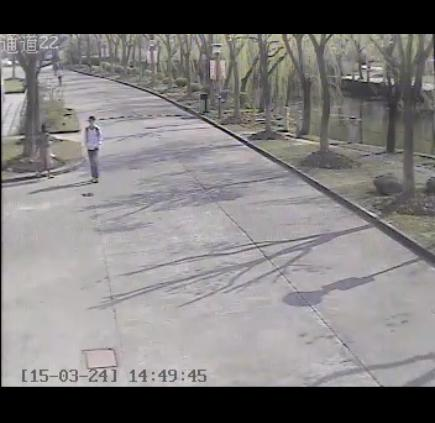person: (81, 113, 105, 186)
